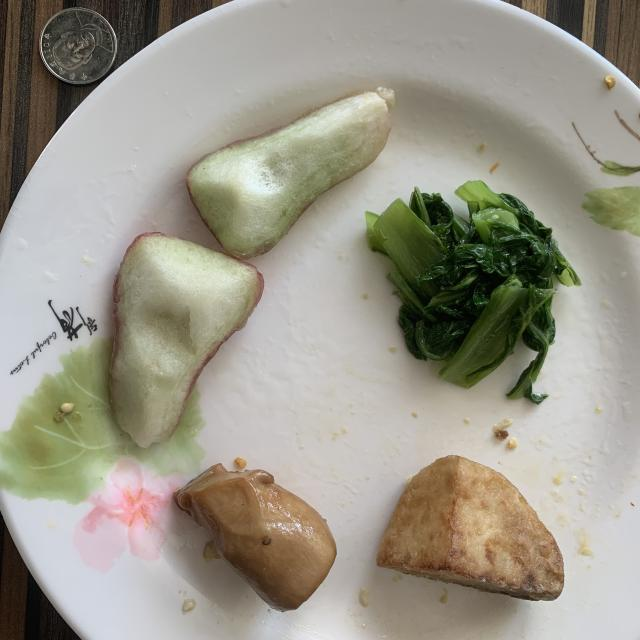coin: (40, 8, 118, 84)
fried potato: (376, 455, 564, 600)
mustard greens: (366, 180, 580, 402)
